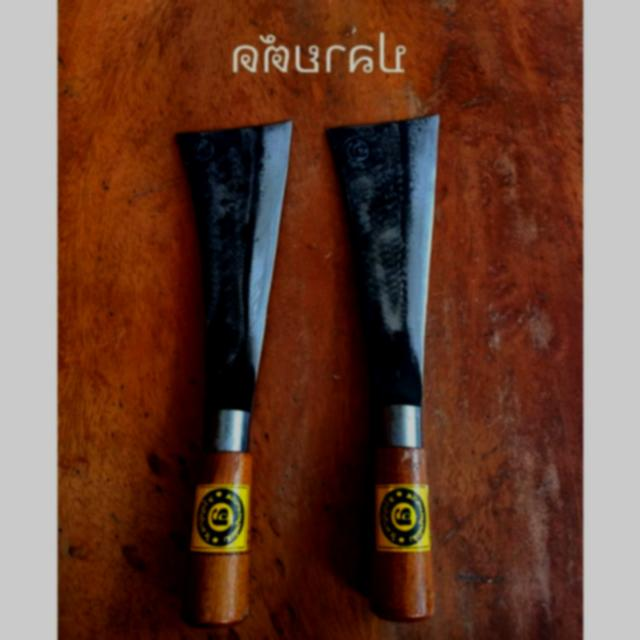eto: (167, 114, 298, 632), (318, 110, 444, 628)
